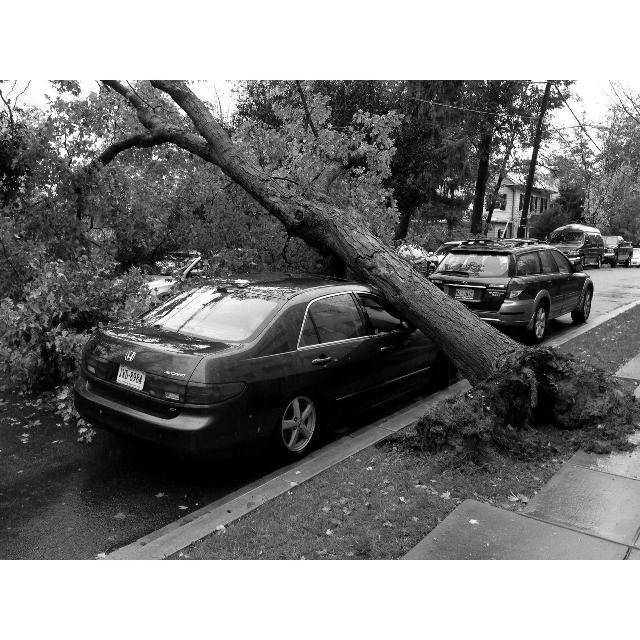roof-dent: (242, 253, 390, 295)
